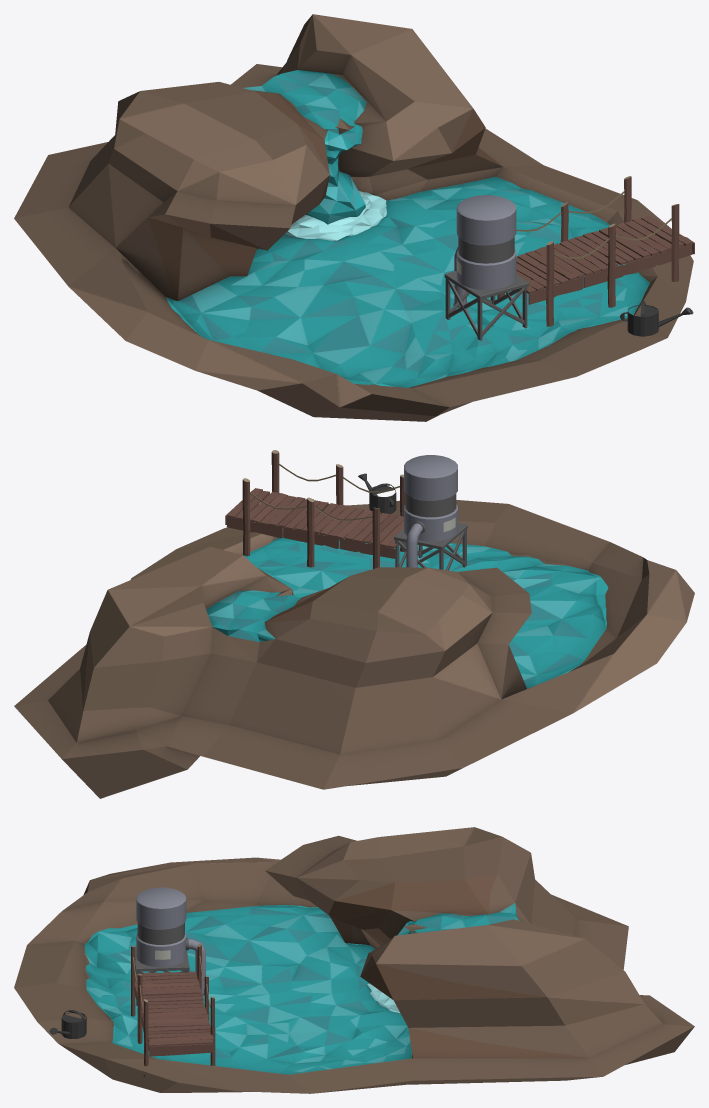
The model's file is pump.glb.
3 views of the same model, one above another, from view 1: azimuth 30°, elevation 25°; view 2: azimuth 150°, elevation 25°; view 3: azimuth 270°, elevation 25° (orthographic). The views are drawn at different scales.
Visible parts, largest first — view 1: Waterfall_mesh, Dock_Wide, WaterTank_Platform, watering_can; view 2: Waterfall_mesh, Dock_Wide, WaterTank_Platform, watering_can; view 3: Waterfall_mesh, Dock_Wide, WaterTank_Platform, watering_can.
Boxes of the visible parts, box(x1,y1,x2,y2) form: Waterfall_mesh: box(14, 14, 693, 421); Dock_Wide: box(497, 176, 694, 326); WaterTank_Platform: box(444, 195, 529, 340); watering_can: box(620, 301, 693, 336); Waterfall_mesh: box(14, 500, 694, 798); Dock_Wide: box(225, 450, 406, 568); WaterTank_Platform: box(394, 455, 467, 570); watering_can: box(358, 473, 396, 514); Waterfall_mesh: box(14, 827, 694, 1093); Dock_Wide: box(131, 943, 215, 1076); WaterTank_Platform: box(135, 887, 205, 1005); watering_can: box(49, 1010, 86, 1038).
Bounding box in the file's own units: 6.92 × 2.03 × 8.92.
8 materials, 2 textured.
